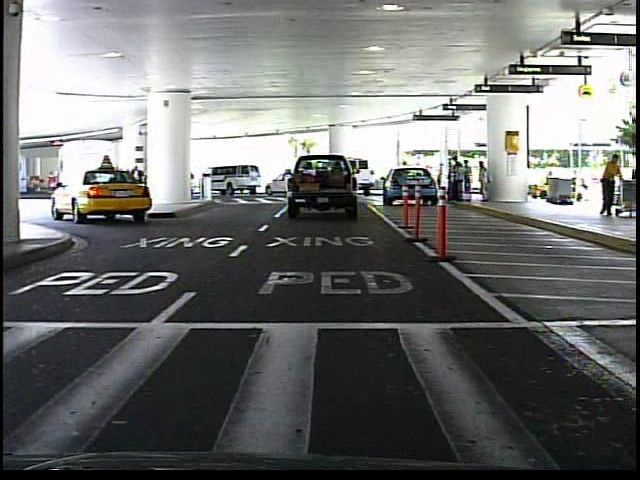person: (597, 149, 626, 221), (397, 158, 412, 197)
